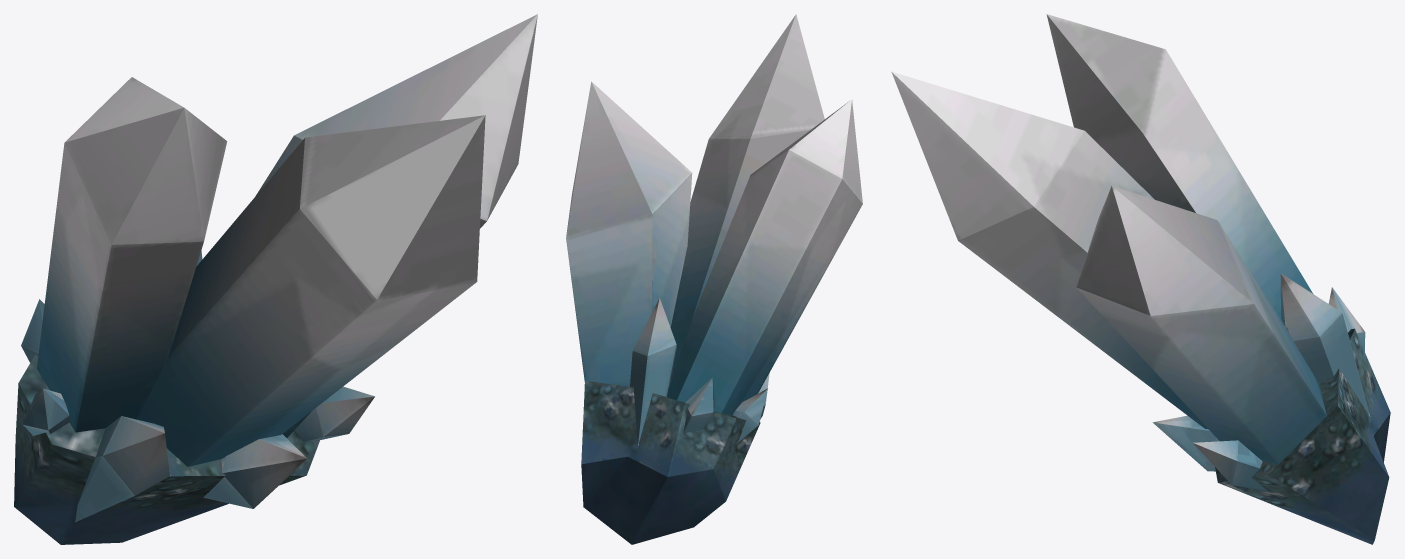
The model's file is eqp_force_crystal.fbx.
3 renders of one model, left to right at view 1: azimuth 30°, elevation 25°; view 2: azimuth 150°, elevation 25°; view 3: azimuth 270°, elevation 25°, orthographic. The views are drawn at different scales.
Parts seen in each view (by area): view 1: mesh_node; view 2: mesh_node; view 3: mesh_node.
Part boxes in pixels (<box>): mesh_node: <box>14,14,537,544</box>; mesh_node: <box>566,14,862,544</box>; mesh_node: <box>891,14,1390,544</box>.
Bounding box in the file's own units: 0.2932 × 0.4011 × 0.3711.
